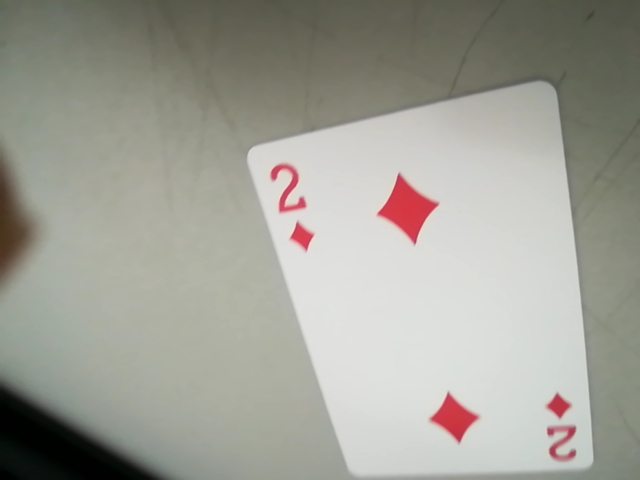fk 2: (260, 154, 318, 261), (543, 389, 585, 470)
